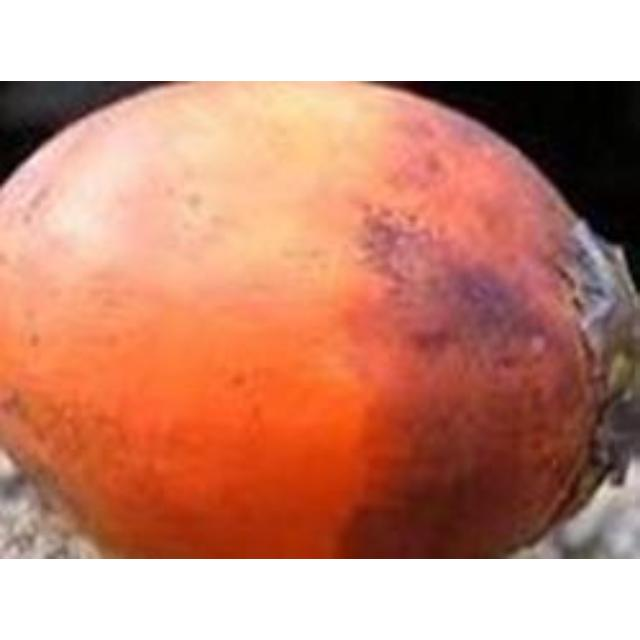good: (0, 81, 637, 557)
